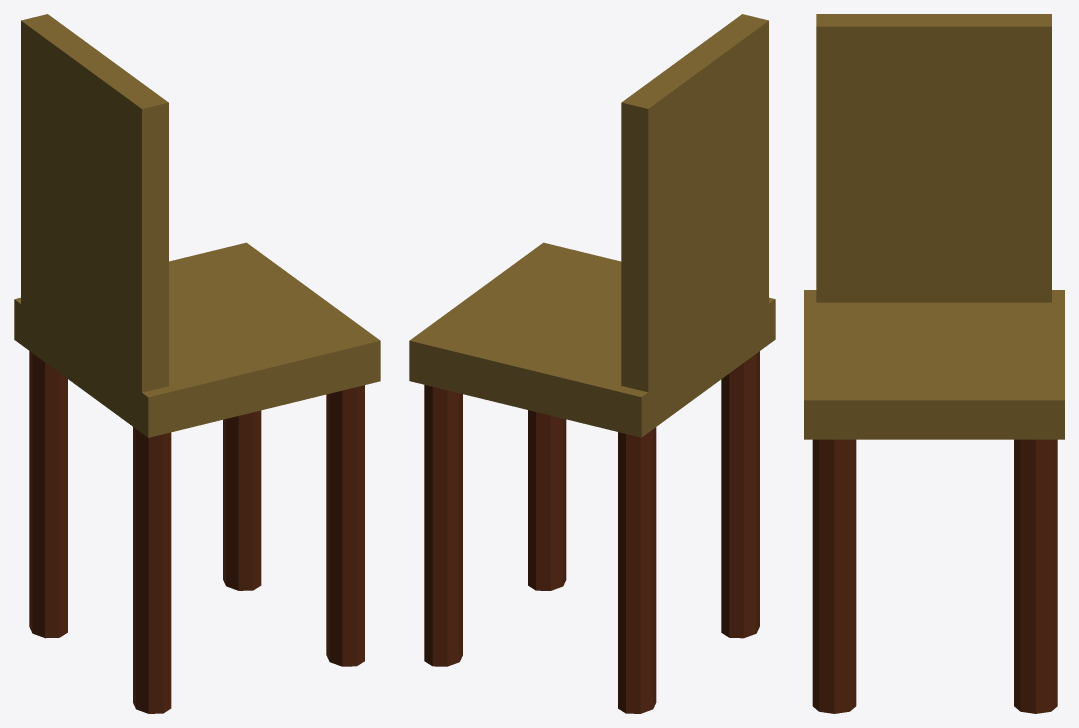
The model's file is Chair 1.fbx.
The picture shows the model from 3 angles, left to right: view 1: azimuth 30°, elevation 25°; view 2: azimuth 150°, elevation 25°; view 3: azimuth 270°, elevation 25°; orthographic projection. The views are drawn at different scales.
Parts seen in each view (by area): view 1: Chair; view 2: Chair; view 3: Chair.
Part boxes in pixels (bbox=[...]): Chair: bbox=[14, 14, 380, 713]; Chair: bbox=[409, 14, 775, 713]; Chair: bbox=[804, 14, 1064, 713].
Bounding box in the file's own units: 1200 × 3000 × 1200.
